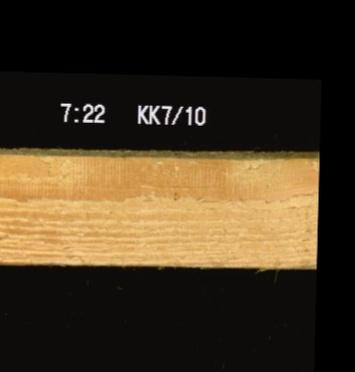split: (130, 175, 233, 189)
